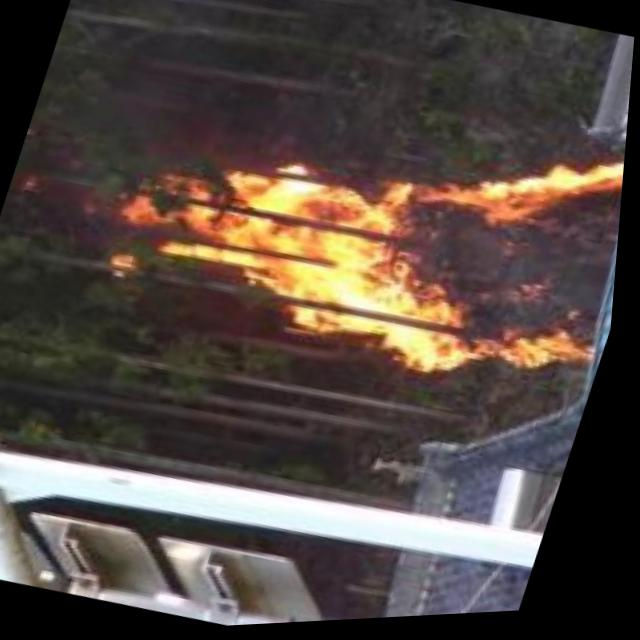Fire: (91, 64, 634, 428)
